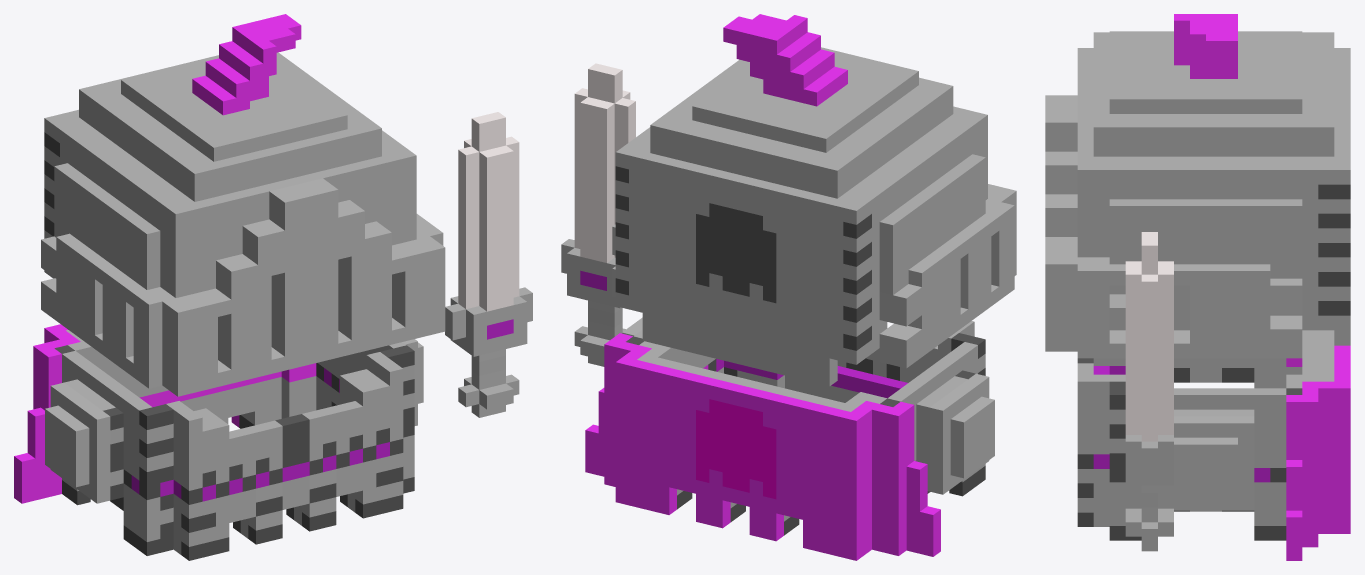
File: 78_Part_knight.fbx
3 renders of one model, left to right at view 1: azimuth 30°, elevation 25°; view 2: azimuth 150°, elevation 25°; view 3: azimuth 270°, elevation 25°, orthographic. The views are drawn at different scales.
Parts seen in each view (by area): view 1: 309, 310, 311, 310.1; view 2: 309, 310, 311, 310.1; view 3: 309, 310, 311, 310.1.
Part boxes in pixels (x1,y1,x2,y2): 309: [41, 14, 445, 396]; 310: [14, 324, 423, 560]; 311: [445, 112, 532, 417]; 310.1: [131, 368, 389, 501]; 309: [612, 14, 1016, 386]; 310: [585, 317, 994, 560]; 311: [561, 63, 635, 366]; 310.1: [696, 359, 916, 499]; 309: [1045, 14, 1350, 358]; 310: [1077, 285, 1350, 560]; 311: [1125, 232, 1173, 551]; 310.1: [1093, 366, 1270, 482].
Size of the model in its own units: 330 by 320 by 190.
Materials: 5 (5 with a texture image).
